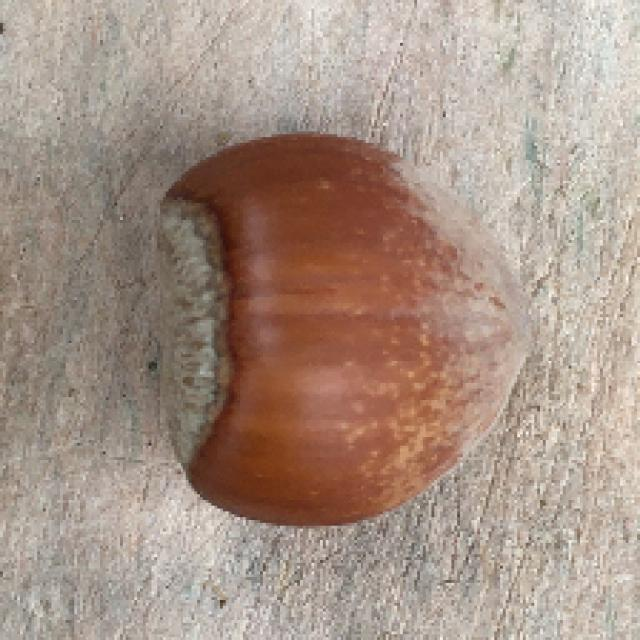qualityHazelnut: (152, 127, 540, 530)
